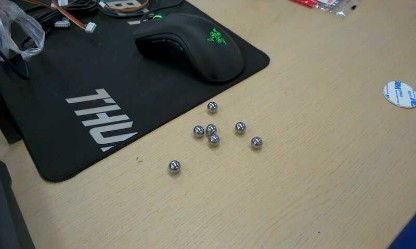ironball: (167, 160, 180, 174), (250, 136, 262, 149), (207, 133, 219, 146), (192, 125, 204, 138), (234, 121, 245, 134), (205, 123, 216, 135), (206, 101, 217, 113)
